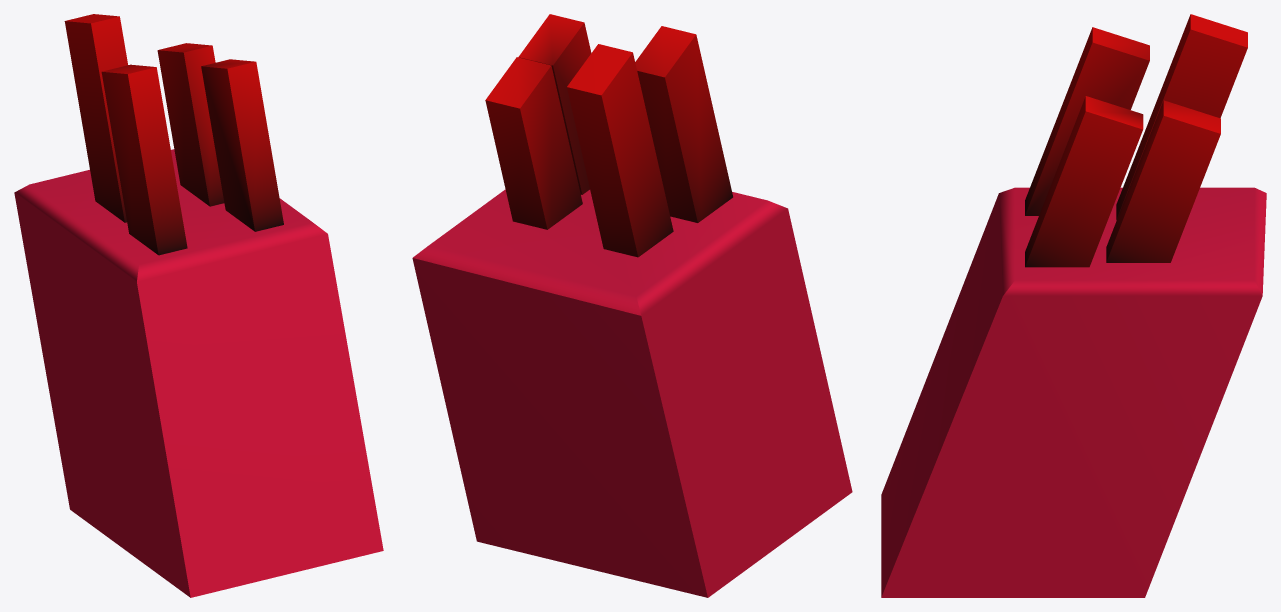
The model's file is CI_Kitchen_KnifeBlock.glb.
3 renders of one model, left to right at view 1: azimuth 30°, elevation 25°; view 2: azimuth 150°, elevation 25°; view 3: azimuth 270°, elevation 25°, orthographic. The views are drawn at different scales.
Visible parts, largest first — view 1: CI_Kitchen_KnifeBlock; view 2: CI_Kitchen_KnifeBlock; view 3: CI_Kitchen_KnifeBlock.
Boxes of the visible parts, x1,y1,x2,y2 form: CI_Kitchen_KnifeBlock: (14, 14, 383, 597); CI_Kitchen_KnifeBlock: (412, 14, 852, 597); CI_Kitchen_KnifeBlock: (881, 14, 1266, 597).
Size of the model in its own units: 0.12 by 0.2737 by 0.19.
